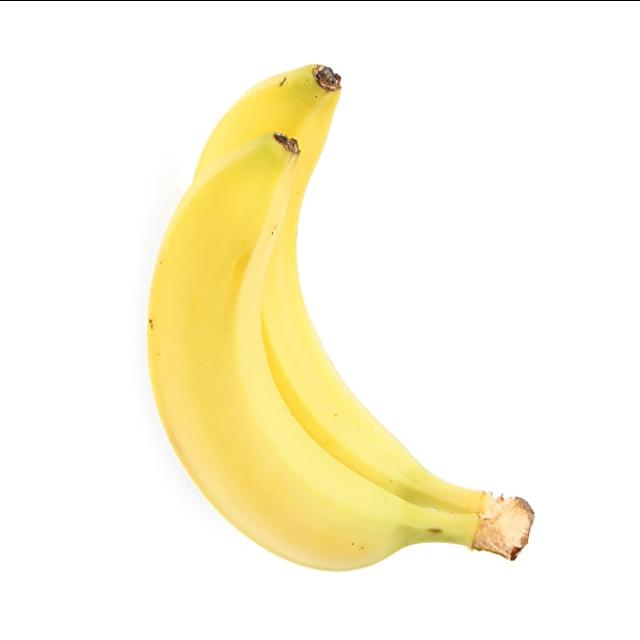Bananas: (149, 62, 533, 572)
